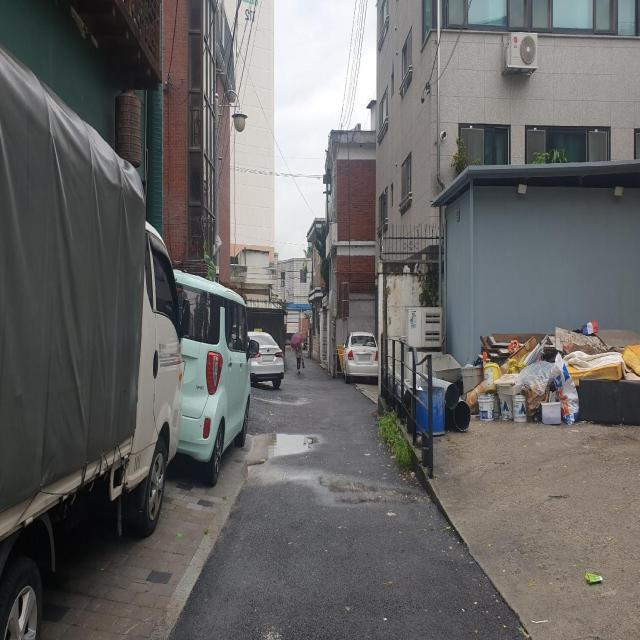car ahead at: (0, 43, 189, 636)
